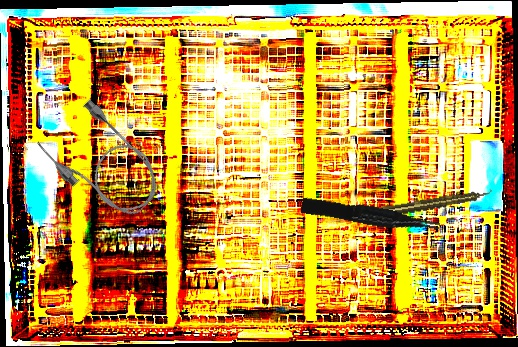Cannula: (31, 92, 173, 234)
Handpiece: (353, 187, 494, 222)
Tissue Forceps: (300, 191, 441, 242)
